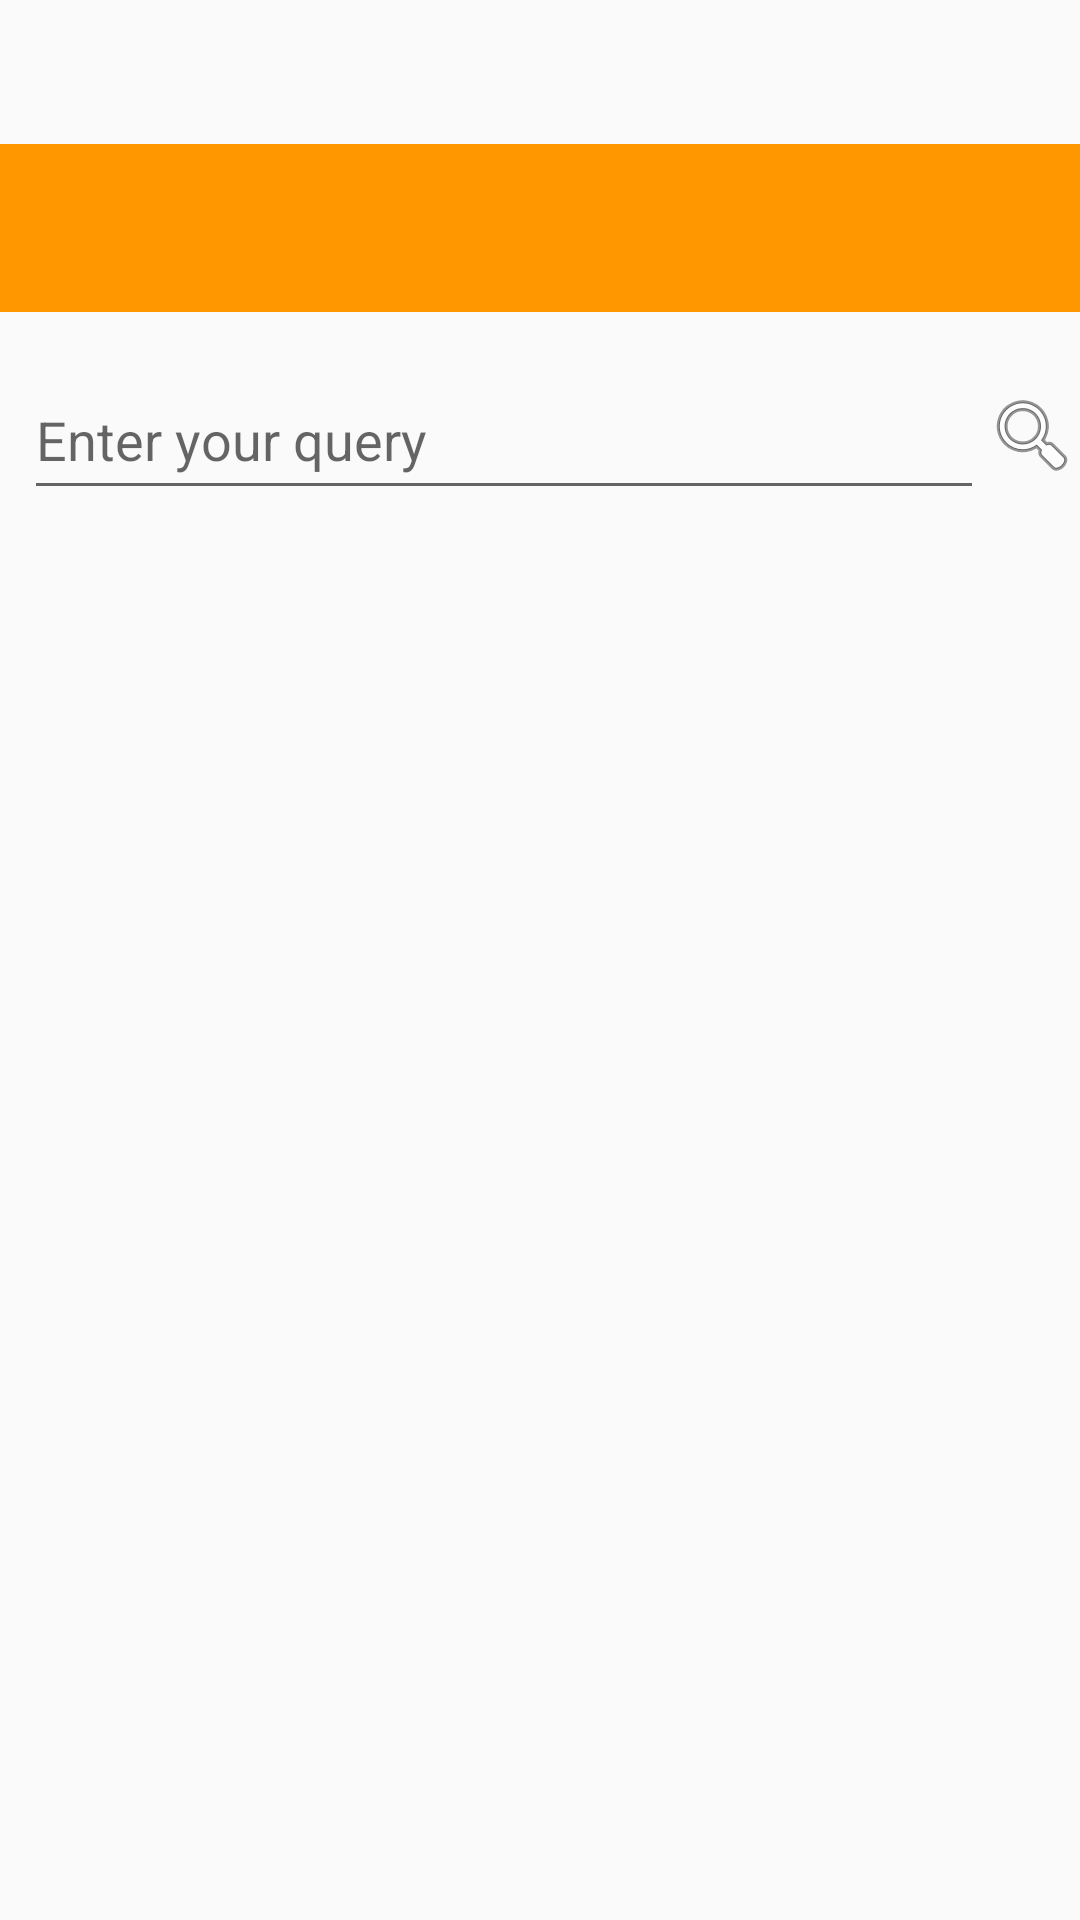

Named icons in this screenshot (1080px x 1920px) and their centers, point (x, y):
search: point (1032, 435)
